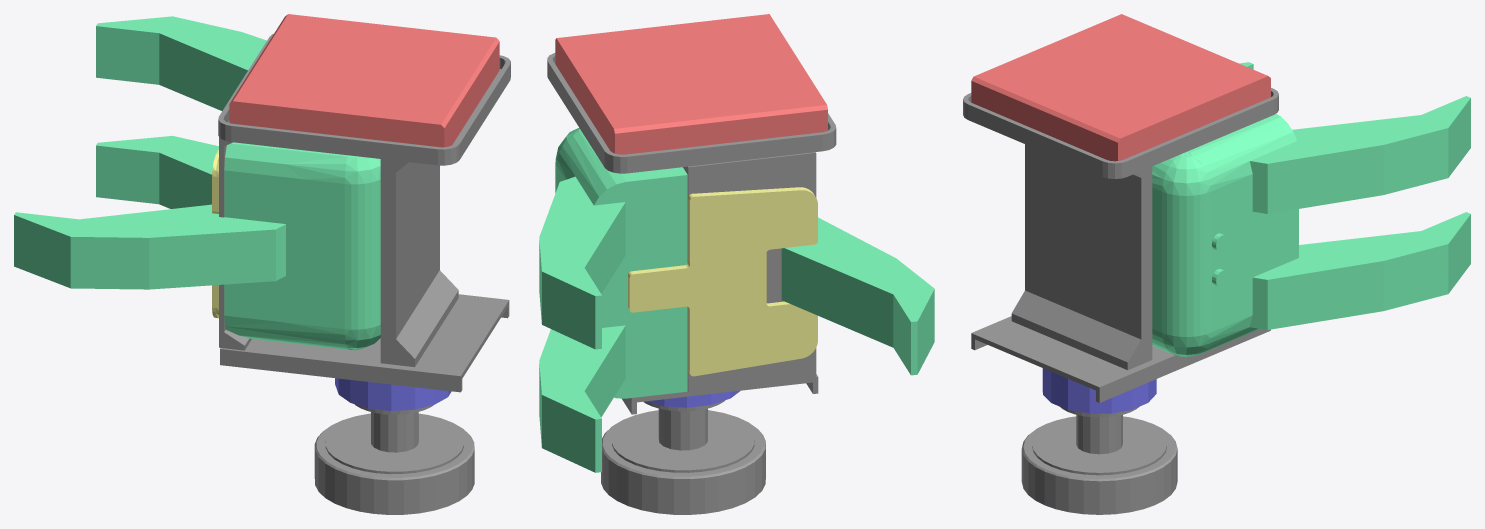
Rendered from LARM_LINK7_mesh.dae.
3 renders of one model, left to right at view 1: azimuth 30°, elevation 25°; view 2: azimuth 150°, elevation 25°; view 3: azimuth 270°, elevation 25°, orthographic. The views are drawn at different scales.
Parts seen in each view (by area): view 1: LARM_LINK7 (×6); view 2: LARM_LINK7 (×6); view 3: LARM_LINK7 (×5).
Part boxes in pixels (x1,y1,x2,y2): LARM_LINK7 (×6): (14, 14, 510, 514); LARM_LINK7 (×6): (539, 14, 934, 514); LARM_LINK7 (×5): (963, 14, 1470, 514).
Size of the model in its own units: 0.2758 by 0.253 by 0.2935.
